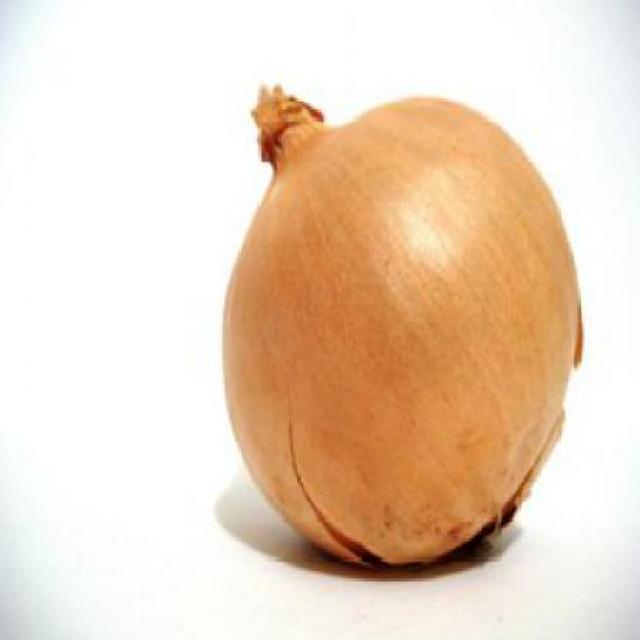Onion: (225, 88, 585, 568)
